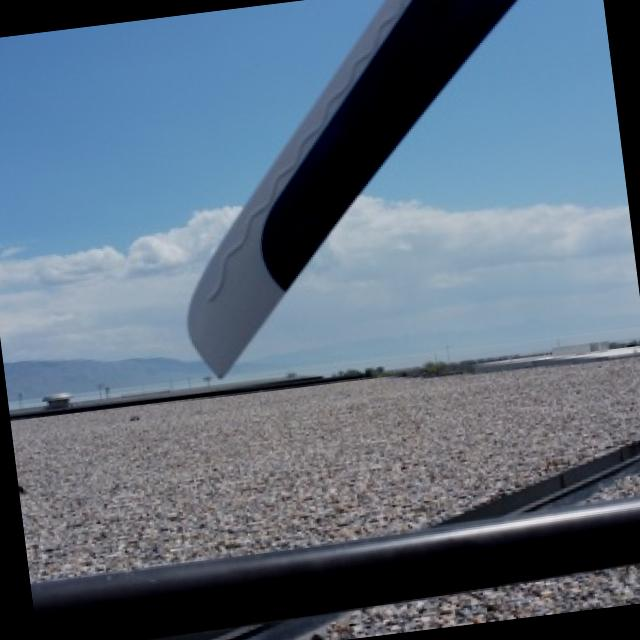healthy: (191, 0, 515, 375)
